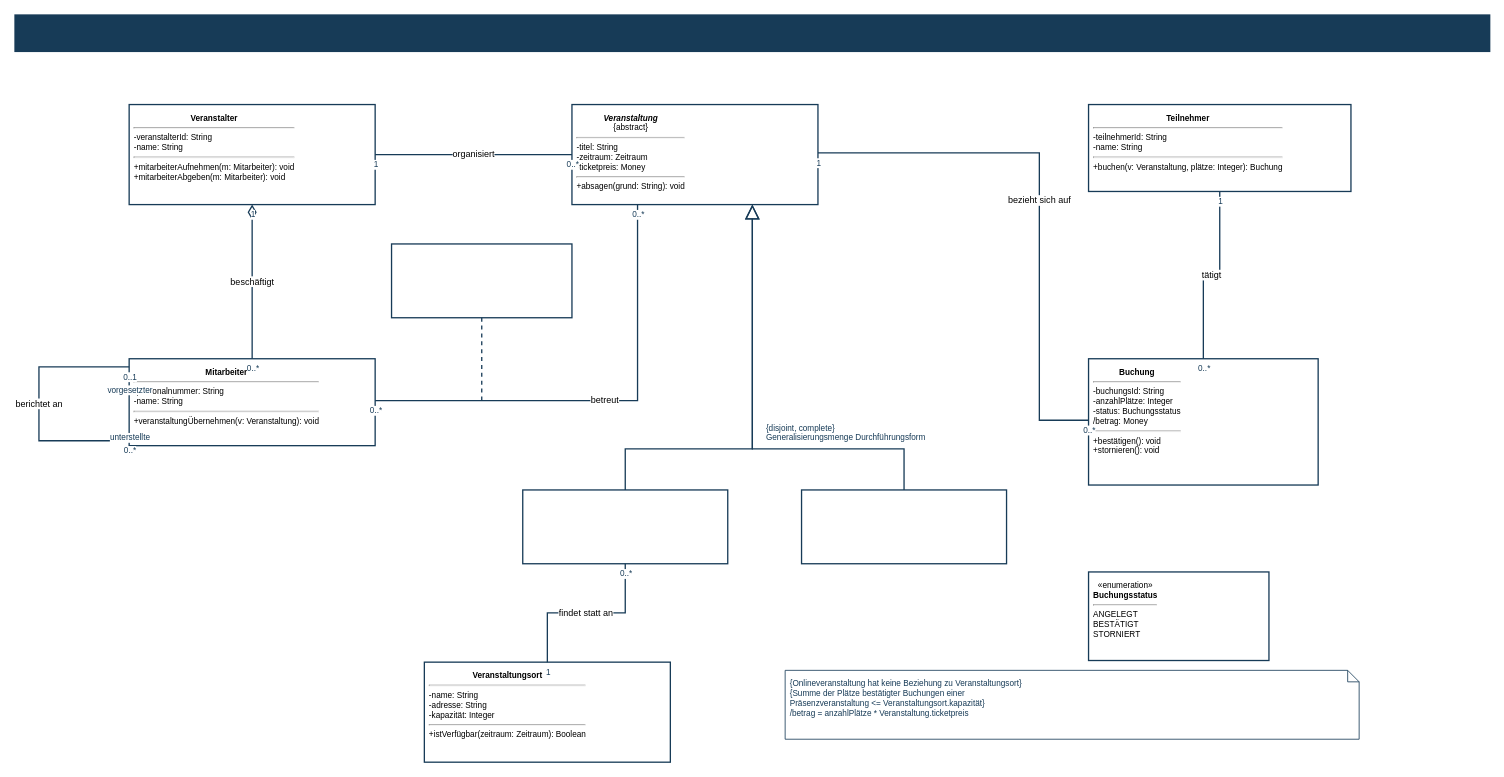
This 1504x777 diagram has some shape labels left out. The shapes that lost their labels are listed below. From the top down, each one's centre as x and y in pixels, then its label:
At [752,33]: "Aufgabe 3 - Veranstaltungsmanagement".
At [481,280]: "Betreuung -rolle: String -einsatzzeitraum: Zeitraum".
At [625,526]: "Präsenzveranstaltung -einlassAb: DateTime +freiePlätzeErmitteln(): Integer".
At [903,526]: "Onlineveranstaltung -plattform: String -zugangsUrl: URL".
